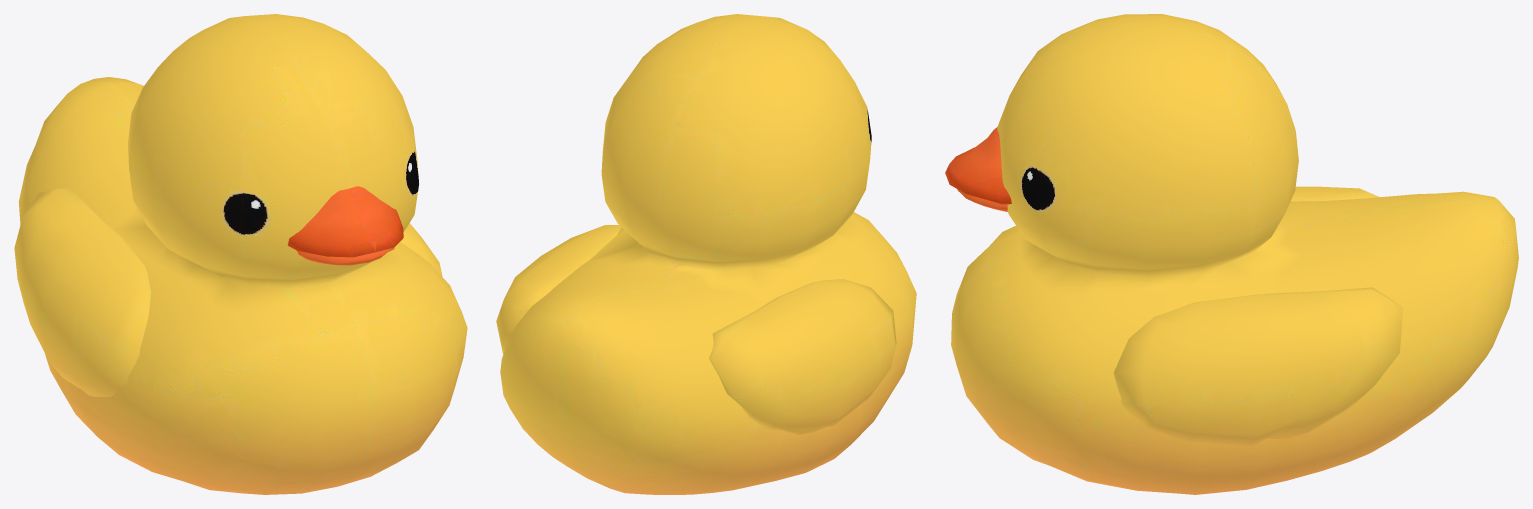
The model's file is Rubbish_Duck-transformed.glb.
3 renders of one model, left to right at view 1: azimuth 30°, elevation 25°; view 2: azimuth 150°, elevation 25°; view 3: azimuth 270°, elevation 25°, orthographic. The views are drawn at different scales.
Parts seen in each view (by area): view 1: Cube.015, Cube.012, Cube.013; view 2: Cube.015; view 3: Cube.015, Cube.012.
Part boxes in pixels (x1,y1,x2,y2): Cube.015: [14, 14, 467, 494]; Cube.012: [287, 186, 403, 257]; Cube.013: [296, 247, 394, 265]; Cube.015: [496, 14, 916, 494]; Cube.015: [951, 14, 1518, 494]; Cube.012: [945, 127, 1011, 204].
Bounding box in the file's own units: 1.06 × 1.24 × 1.52.
1 material, 1 textured.
